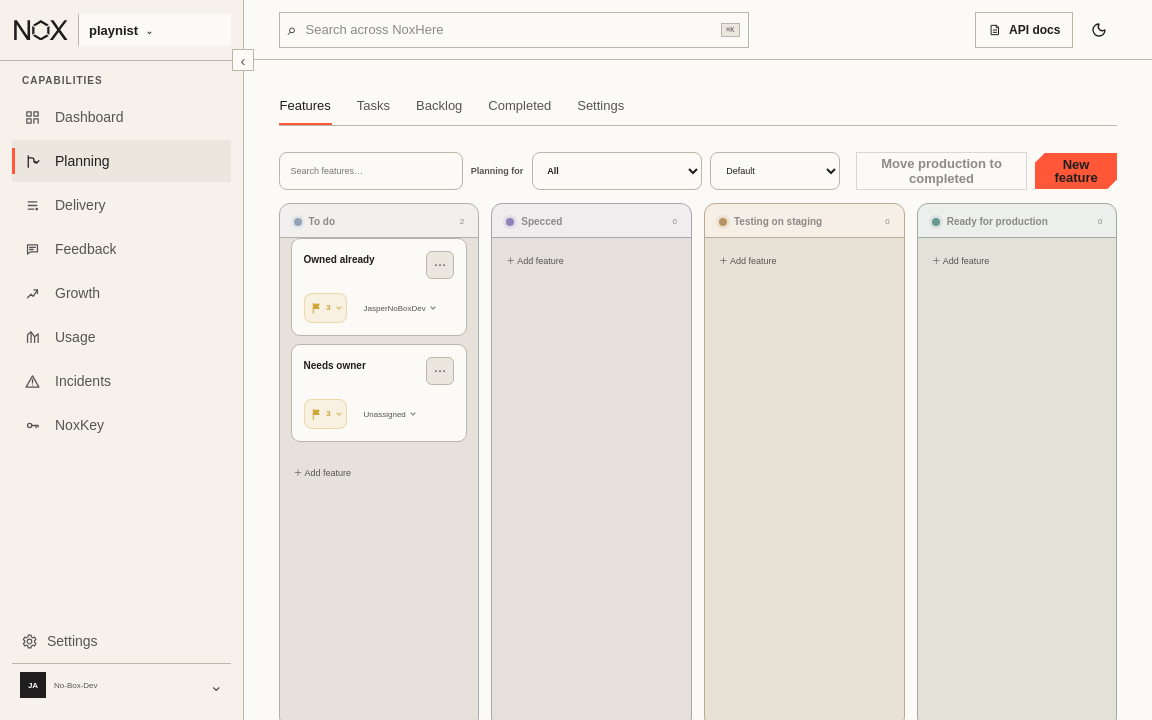
Scenario: NoxHere API-backed platform › keeps known Planning owners assignable when the shared member directory fails
The width and height of the screenshot is (1152, 720).
Expected: the button "Owned already" is shown, x1=304 y1=251 x2=375 y2=268
Click the button with aria-label "Assign owner for Needs owner" at point(390, 414), box x1=356 y1=399 x2=425 y2=429
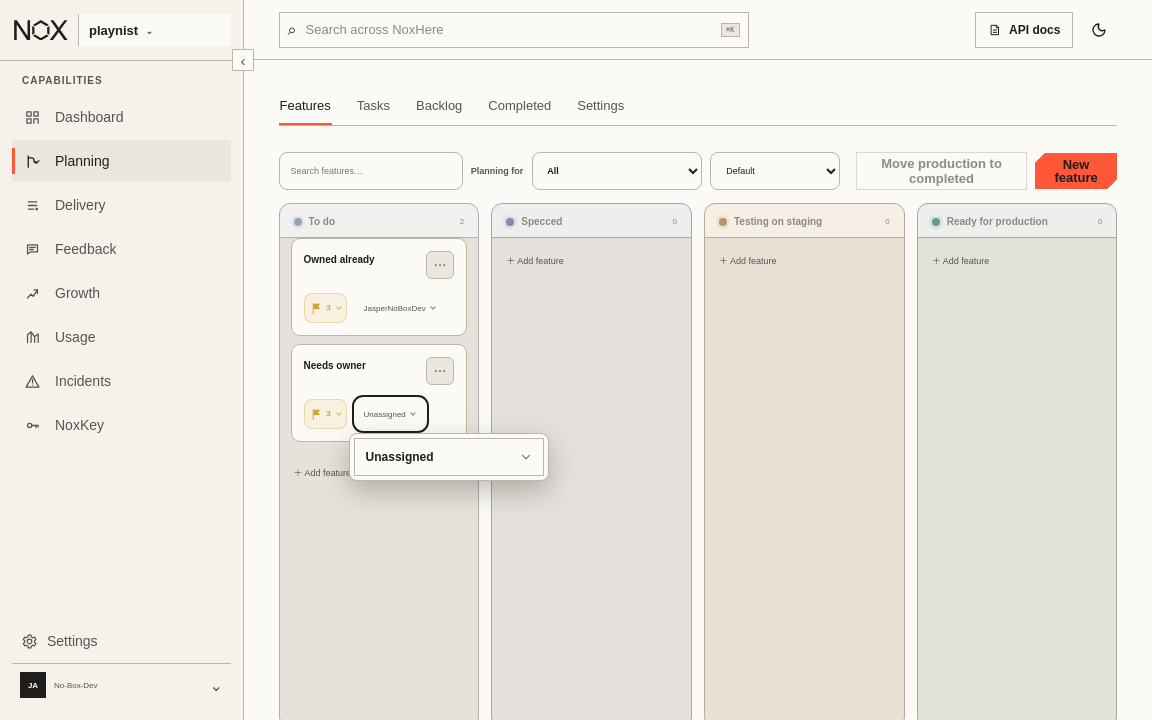
Click the dropdown named "Assign owner for Needs owner" at point(448, 457), box x1=354 y1=438 x2=544 y2=476
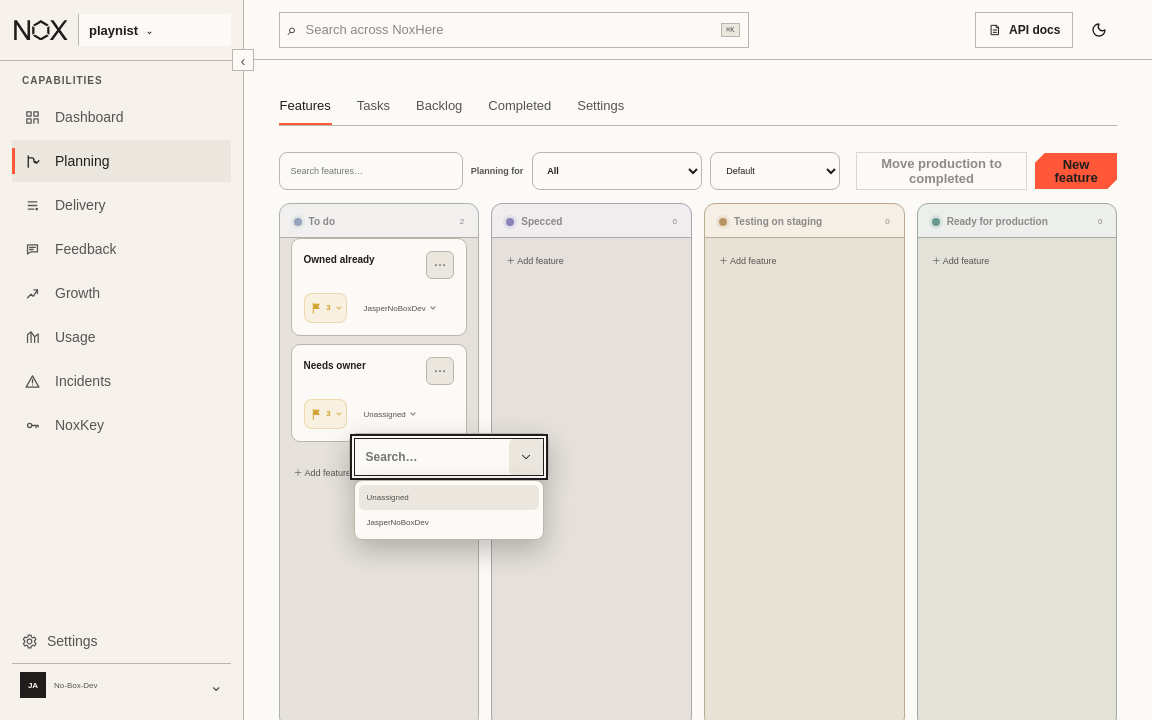
Expected: the option "JasperNoBoxDev" is shown, x1=358 y1=510 x2=538 y2=535
